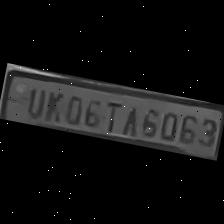0: (58, 90, 86, 127), (154, 108, 180, 142)
3: (194, 114, 220, 150)
6: (79, 95, 106, 131), (174, 110, 200, 145), (136, 104, 162, 138)
A: (119, 100, 142, 137)
K: (41, 86, 66, 123)
T: (100, 96, 126, 134)
U: (20, 83, 49, 119)
